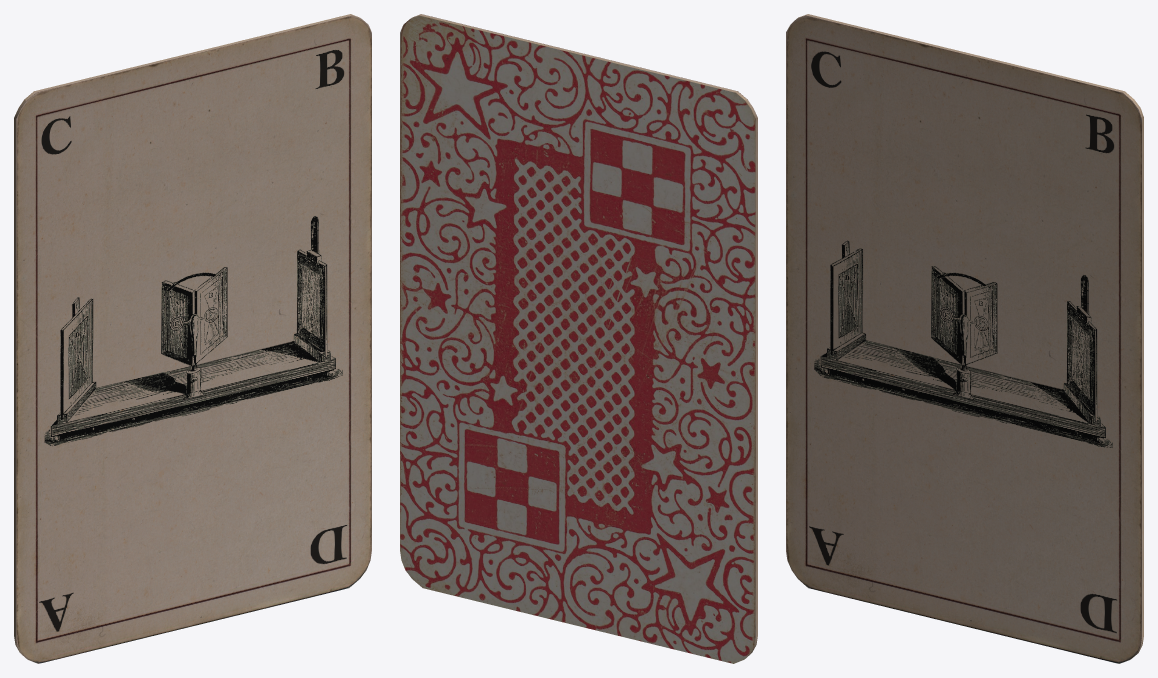
The model's file is playing card.obj.
3 renders of one model, left to right at view 1: azimuth 30°, elevation 25°; view 2: azimuth 150°, elevation 25°; view 3: azimuth 330°, elevation 25°, orthographic.
Visible parts, largest first — view 1: Ace_Of_Spades_Mesh; view 2: Ace_Of_Spades_Mesh; view 3: Ace_Of_Spades_Mesh.
Part boxes in pixels (x1,y1,x2,y2): Ace_Of_Spades_Mesh: (14, 14, 371, 663); Ace_Of_Spades_Mesh: (400, 14, 757, 663); Ace_Of_Spades_Mesh: (786, 14, 1143, 663).
Bounding box in the file's own units: 5.86 × 9 × 0.0604.
Materials: 2 (2 with a texture image).
